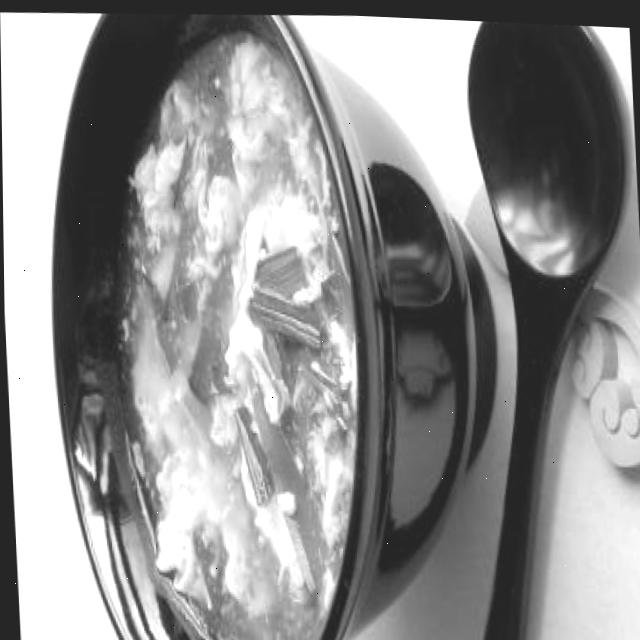汤锅炖物: (29, 1, 509, 640)
